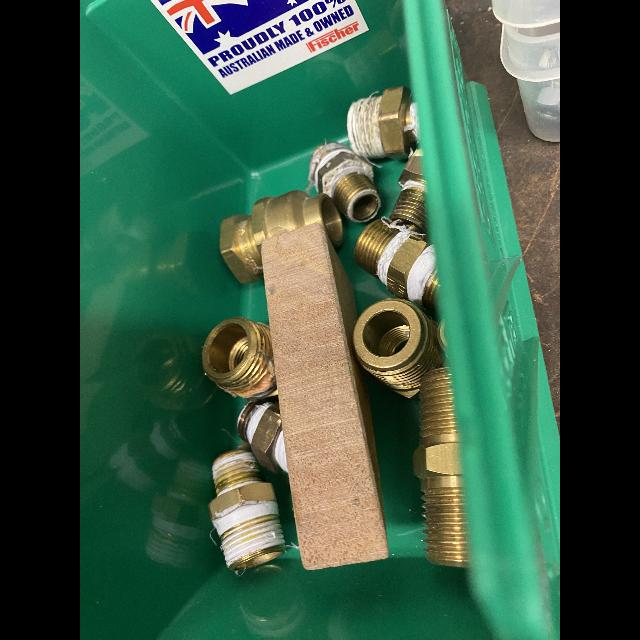Brass: (220, 190, 343, 283), (411, 369, 469, 566), (353, 299, 441, 398), (202, 317, 278, 399), (207, 450, 276, 521), (377, 87, 415, 161), (354, 220, 400, 276), (387, 237, 427, 299), (333, 173, 381, 221), (319, 151, 372, 193), (251, 401, 282, 472), (389, 189, 426, 236), (230, 545, 285, 569), (238, 404, 259, 441), (422, 269, 439, 311), (438, 323, 446, 344)
